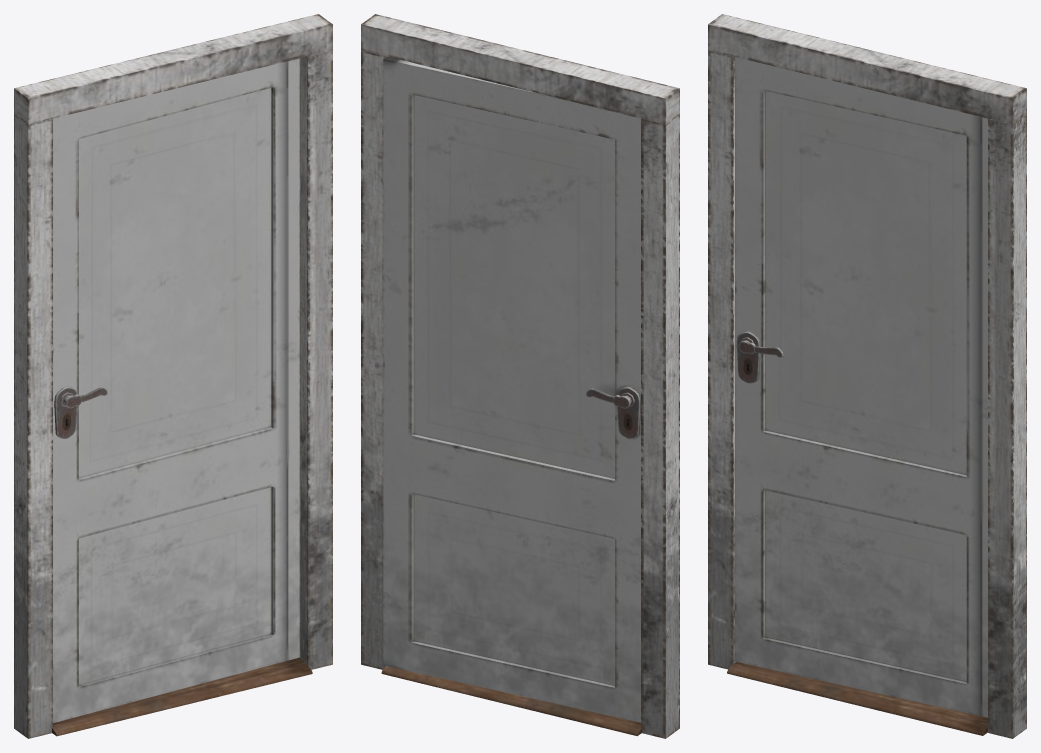
Rendered from door-old.glb.
The picture shows the model from 3 angles, left to right: view 1: azimuth 30°, elevation 25°; view 2: azimuth 150°, elevation 25°; view 3: azimuth 330°, elevation 25°; orthographic projection.
Visible parts, largest first — view 1: leafMesh, frame; view 2: leafMesh, frame; view 3: leafMesh, frame.
Part boxes in pixels (x1,y1,x2,y2): leafMesh: (53,58,300,723); frame: (14,14,332,738); leafMesh: (383,56,640,722); frame: (361,14,679,738); leafMesh: (735,57,987,717); frame: (708,14,1026,738).
Bounding box in the file's own units: 1.32 × 2.65 × 0.1759.
Materials: 1 (1 with a texture image).
